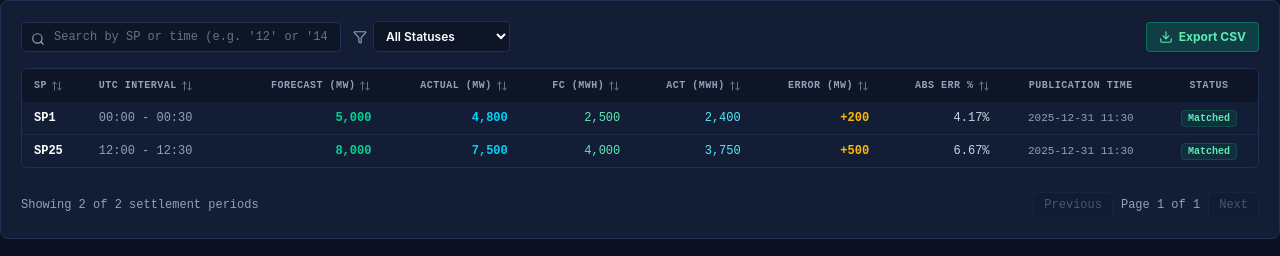
it: Frontend UI Components › filters settlement periods in SettlementTableTab when user types in search
The width and height of the screenshot is (1280, 256).
Expected: the text "SP1" is shown, top-left (22, 102), bottom-right (87, 135)
Expected: the text "SP25" is shown, top-left (22, 135), bottom-right (87, 167)
# Type search
Type "25" into the field with placeholder "Search by SP or time (e.g. '12' or '14:30')..." at (181,36), box top-left (21, 22), bottom-right (341, 52)
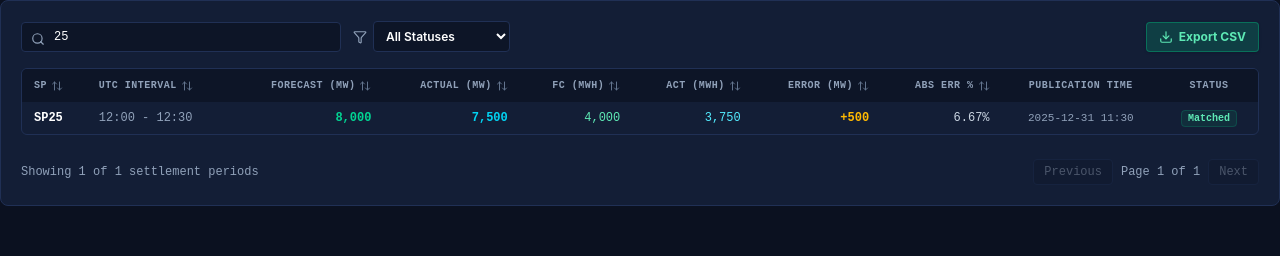
Expected: the text "SP25" is shown, top-left (22, 102), bottom-right (87, 134)
Expected: the text "SP1" is gone
